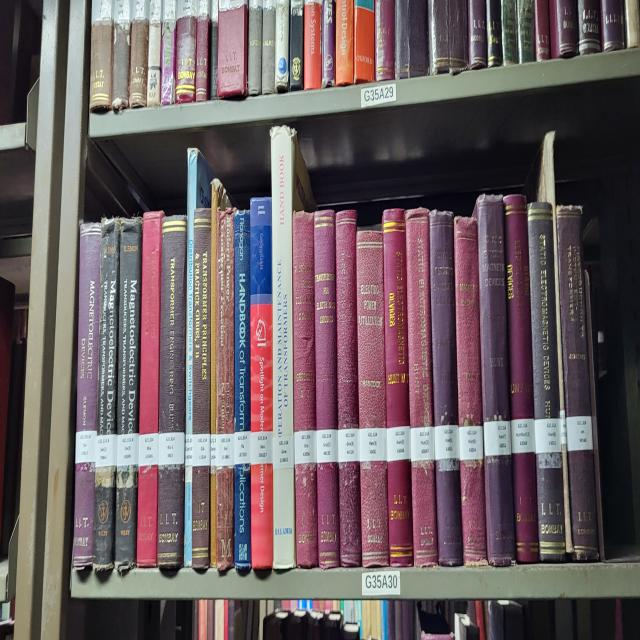Book: (270, 124, 314, 568), (556, 206, 599, 560), (475, 195, 516, 565), (528, 200, 565, 563), (504, 195, 539, 563), (184, 149, 214, 565), (454, 216, 488, 565), (405, 208, 438, 565), (382, 208, 414, 565), (430, 211, 462, 565), (356, 230, 389, 565), (158, 216, 188, 568), (72, 222, 101, 568), (136, 211, 164, 565), (292, 211, 319, 568), (115, 216, 142, 571), (314, 211, 340, 568), (335, 208, 361, 565), (94, 219, 120, 571), (210, 179, 230, 565), (191, 208, 211, 571), (215, 208, 235, 571), (250, 292, 274, 568), (234, 211, 251, 571), (251, 198, 271, 287)
Label: (359, 427, 388, 463), (484, 419, 511, 457), (386, 425, 411, 463), (410, 425, 435, 463), (535, 419, 561, 455), (434, 425, 460, 460), (566, 417, 592, 452), (459, 425, 484, 460), (511, 419, 535, 455), (159, 433, 185, 465), (95, 433, 118, 468), (116, 433, 139, 468), (250, 430, 272, 465), (294, 430, 316, 465), (338, 427, 359, 463), (316, 430, 338, 463), (272, 436, 294, 468), (75, 430, 96, 463), (139, 433, 159, 465), (192, 433, 210, 468), (216, 433, 234, 468), (234, 430, 251, 465), (185, 433, 192, 468), (210, 433, 216, 468), (186, 473, 191, 482)
